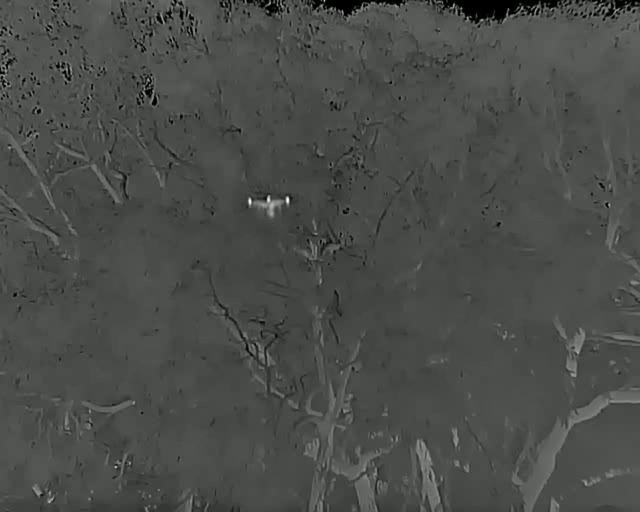DJI-Phantom: (246, 190, 293, 218)
